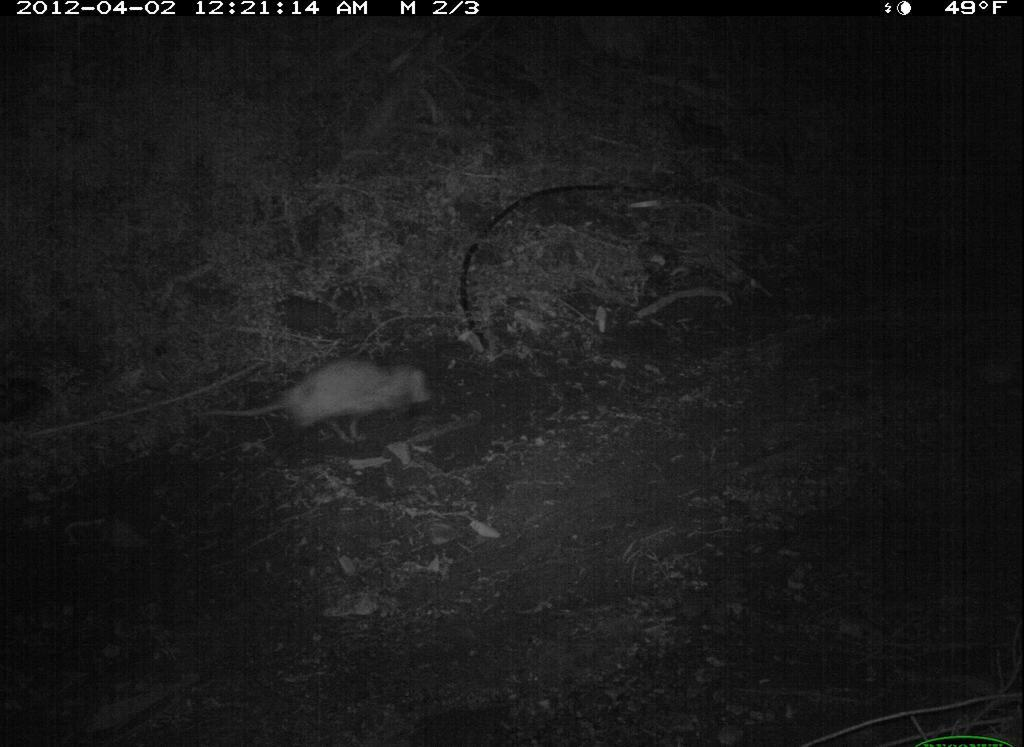opossum: (195, 360, 439, 449)
